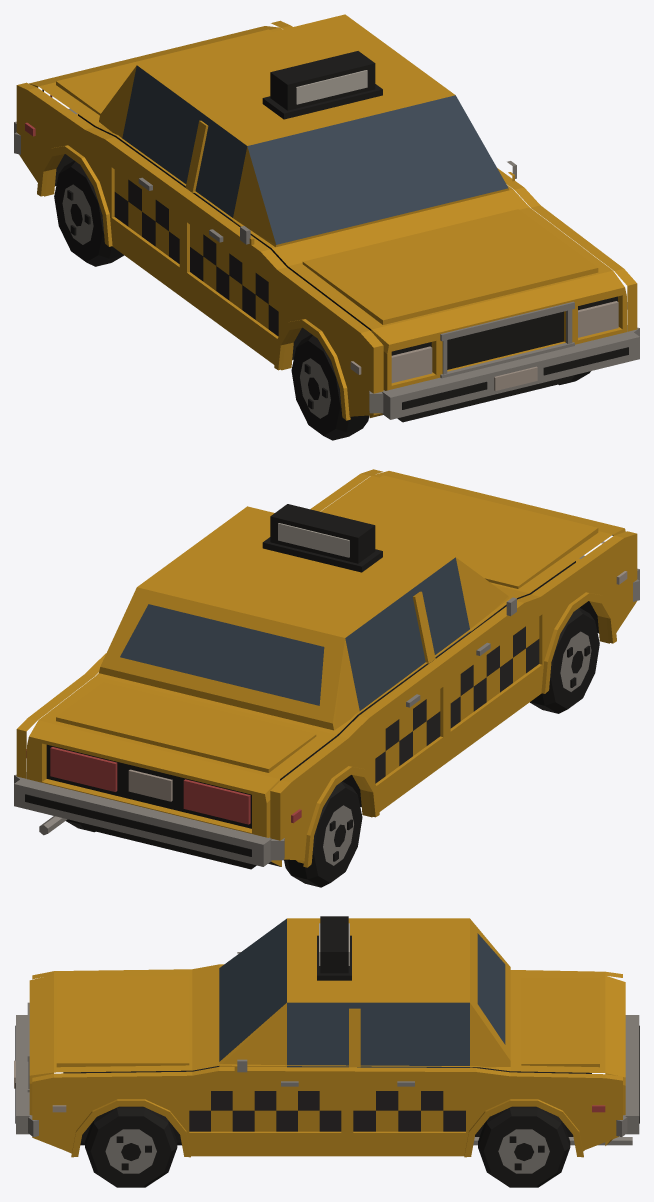
Rendered from yellow-cab-8df4a0.glb.
3 views of the same model, one above another, from view 1: azimuth 30°, elevation 25°; view 2: azimuth 150°, elevation 25°; view 3: azimuth 270°, elevation 25° (orthographic). The views are drawn at different scales.
Visible parts, largest first — view 1: yellow-cab, wheel-fl, wheel-rl; view 2: yellow-cab, wheel-rl, wheel-fl; view 3: yellow-cab, wheel-rr, wheel-fr.
Part boxes in pixels (box(x1,y1,x2,y2)): yellow-cab: box(14, 14, 639, 422); wheel-fl: box(291, 334, 369, 440); wheel-rl: box(54, 160, 124, 266); yellow-cab: box(14, 469, 639, 869); wheel-rl: box(284, 781, 362, 887); wheel-fl: box(530, 607, 599, 713); yellow-cab: box(14, 916, 639, 1157); wheel-rr: box(478, 1106, 570, 1187); wheel-fr: box(85, 1106, 177, 1187).
Size of the model in its own units: 1.91 by 1.66 by 4.62.
